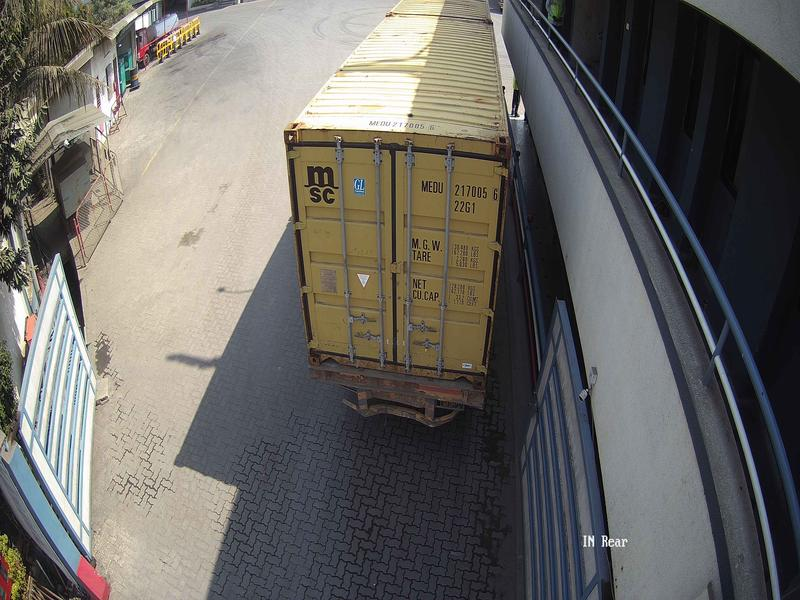container: (275, 122, 518, 393)
